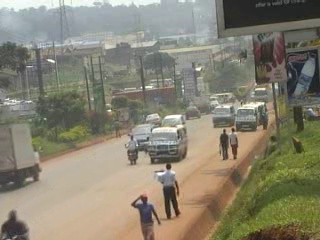Car: (129, 123, 158, 152), (163, 112, 187, 134), (141, 110, 160, 128), (184, 104, 203, 120), (206, 97, 220, 111)
Motorcycle: (0, 211, 33, 239), (122, 136, 138, 168)
